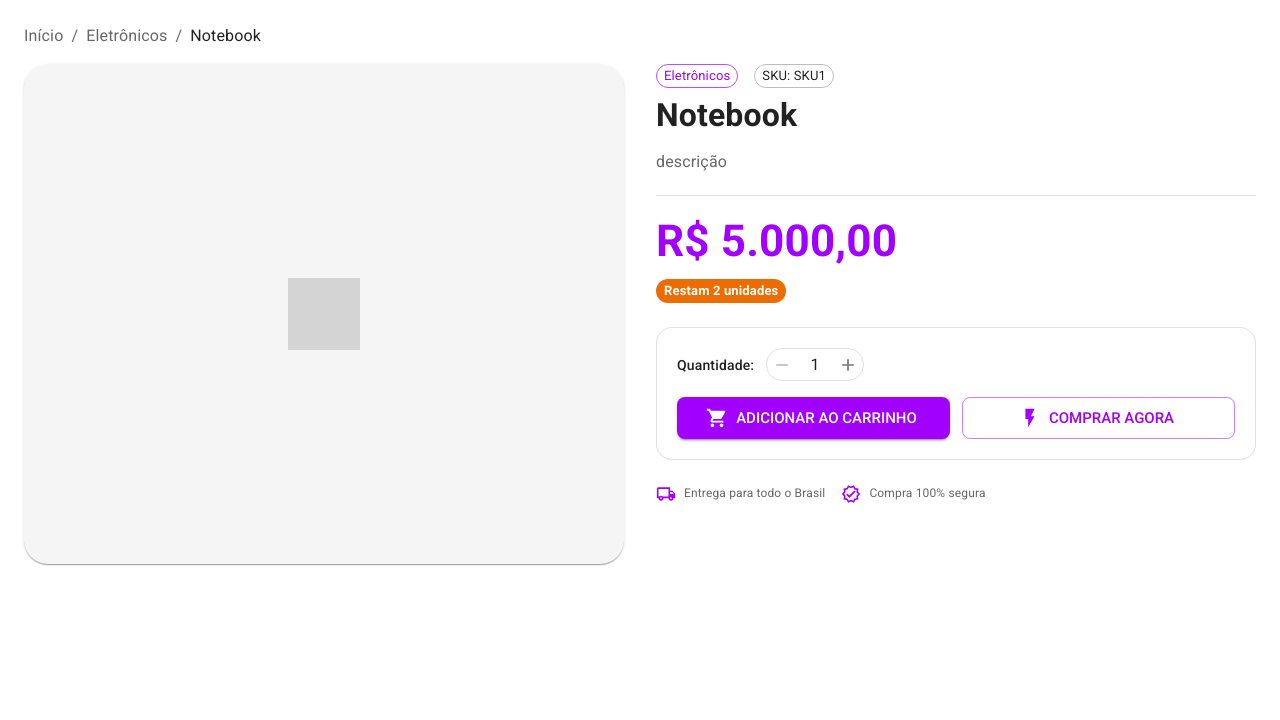
Test case: ProductDetail › quantidade não excede o estoque máximo
The width and height of the screenshot is (1280, 720).
Expected: the heading "Notebook" is shown, top-left (656, 96), bottom-right (797, 134)
Click the button named "aumentar" at (848,364), box top-left (833, 350), bottom-right (863, 380)
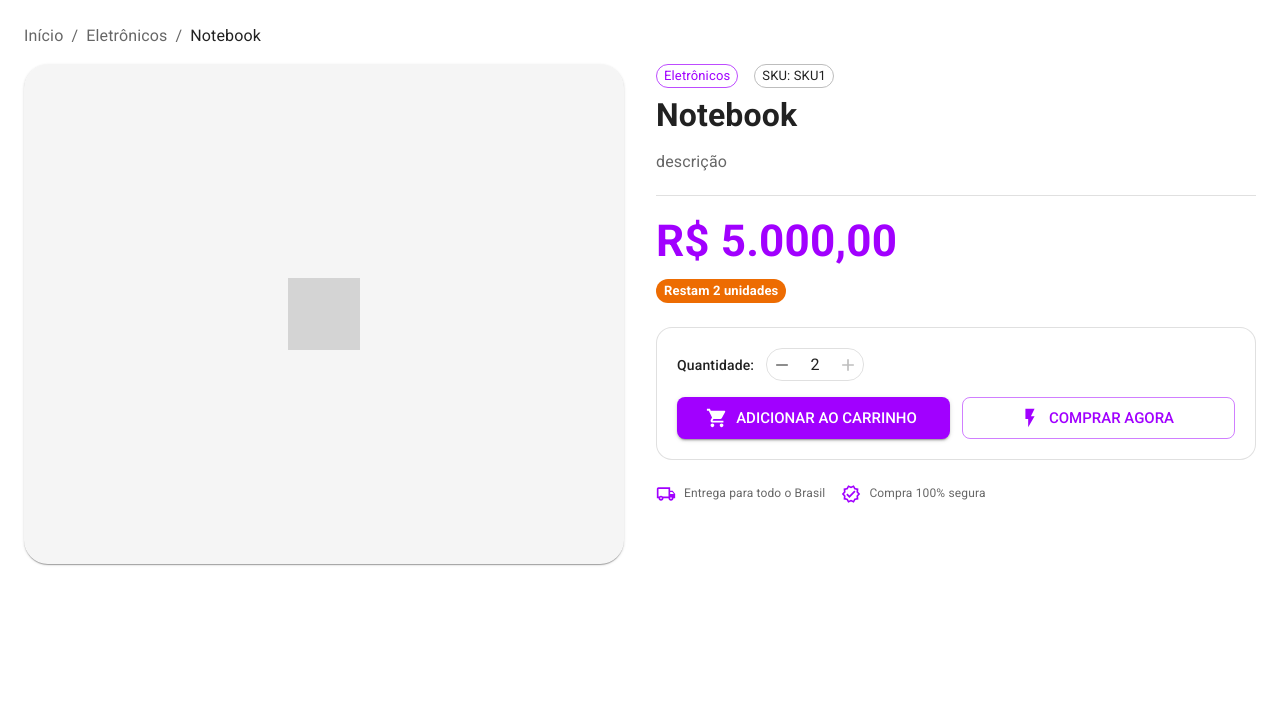
Expected: the button named "aumentar" is disabled, top-left (833, 350), bottom-right (863, 380)
